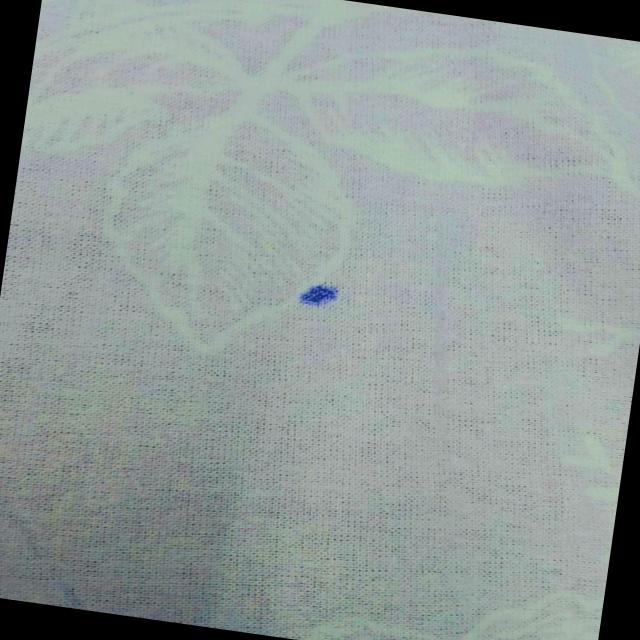stain: (284, 272, 359, 320)
